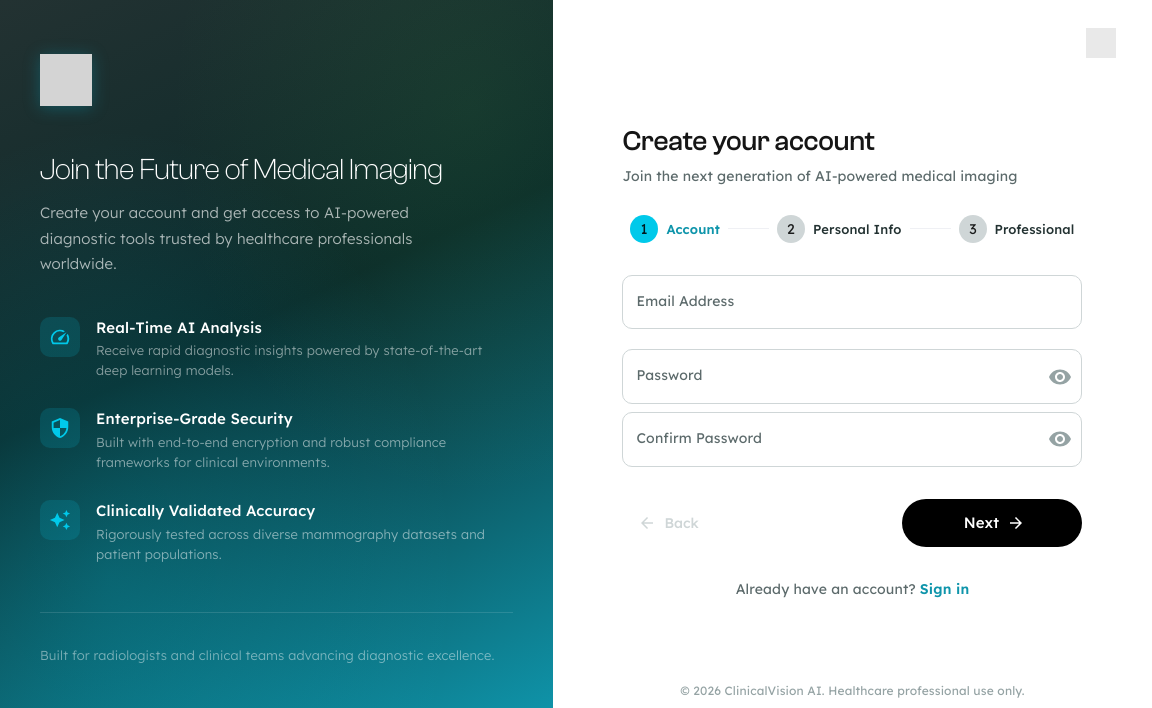
Scenario: RegisterPage — Password Hints Visual Feedback › blocks step advance when password missing special character
Type "test@test.com" into the field labelled "Email Address". click: (852, 302)
box: [622,275,1082,329]
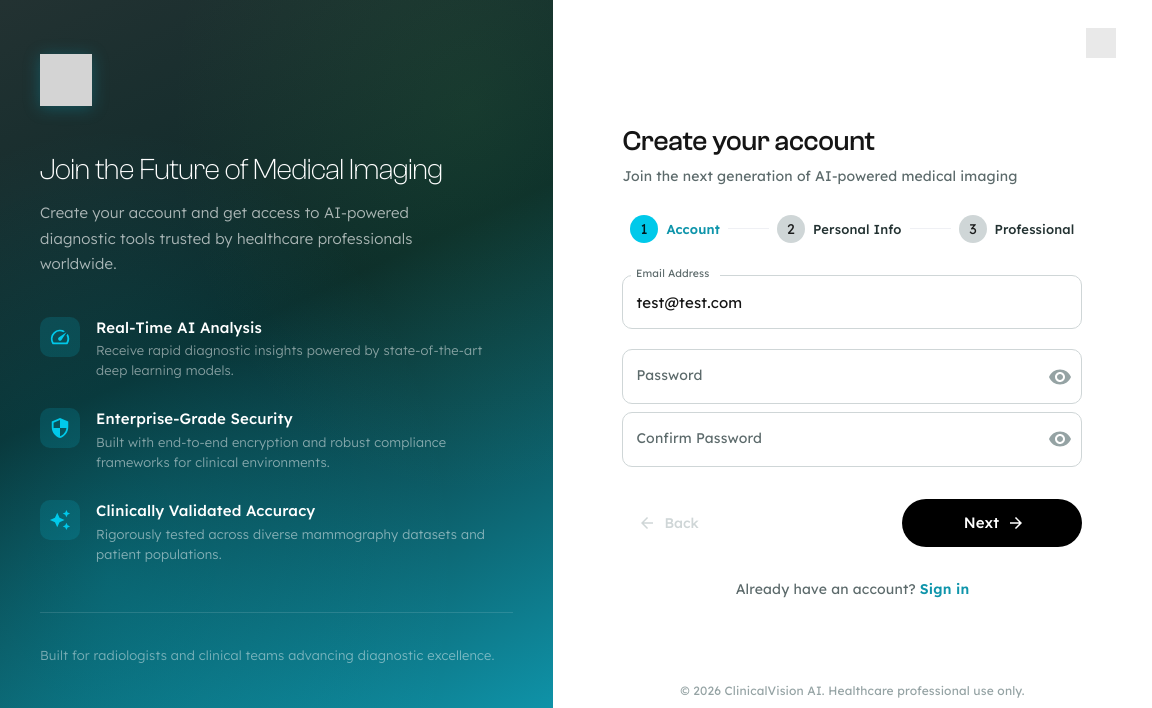
Type "Abcdefg1" into the password field labelled "Password". click: (828, 377)
box: [622,349,1032,404]
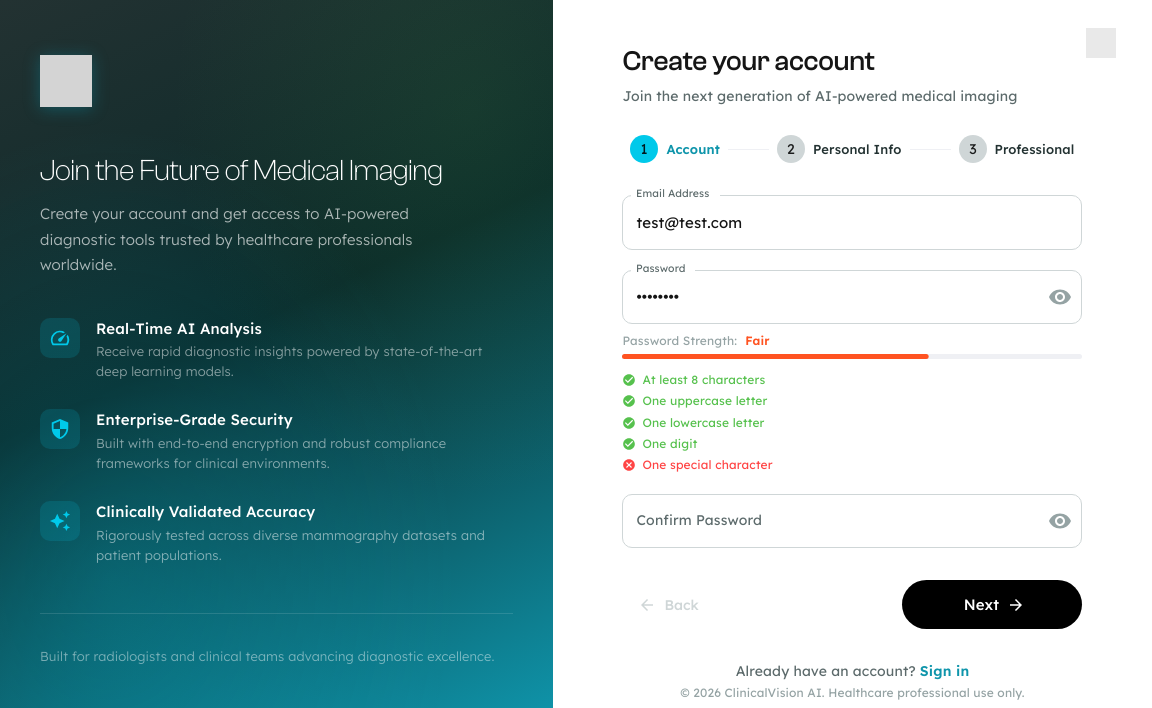
Type "Abcdefg1" into the password field labelled "Confirm Password". click: (828, 521)
box: [622,494,1032,548]
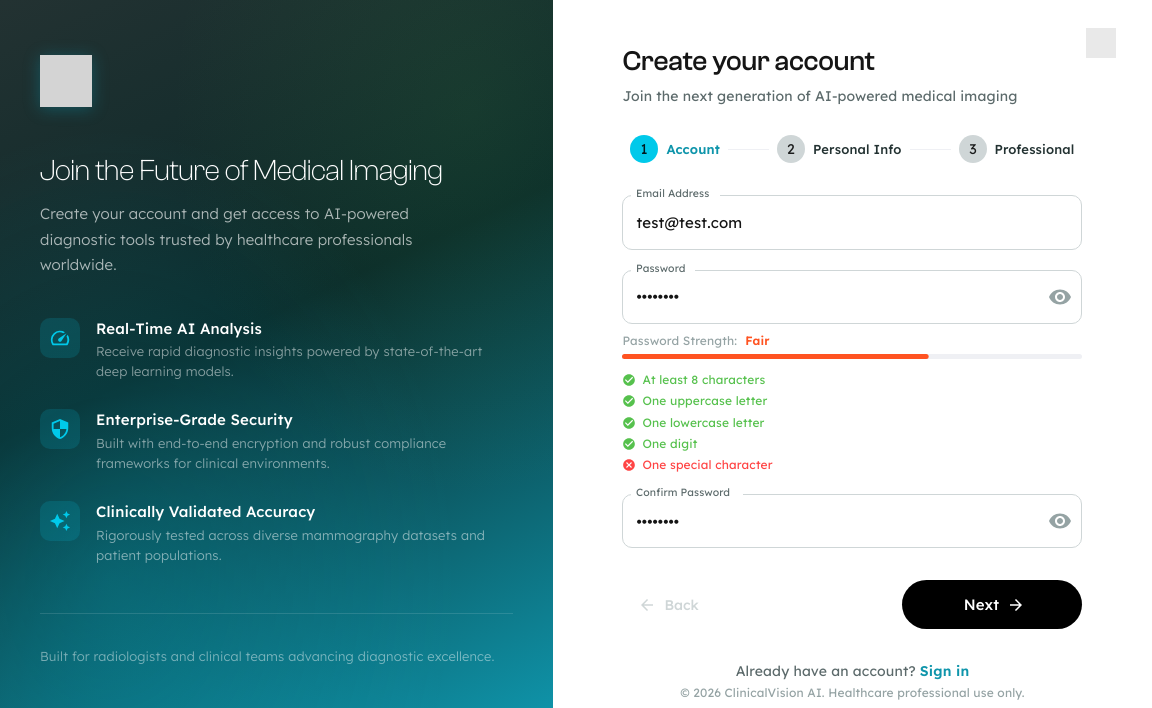
Click the button "Next". click: (992, 605)
box: [902,580,1082,629]
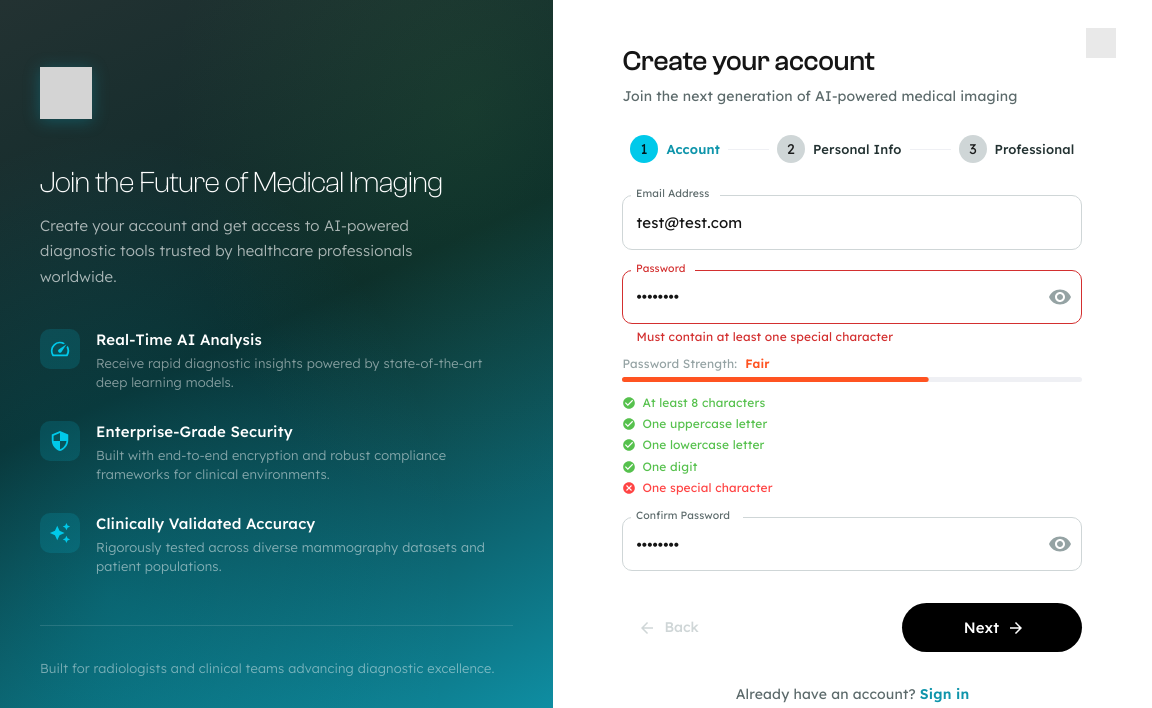
Check: the text "Must contain at least one special character" is shown, box [636,329,893,344]
